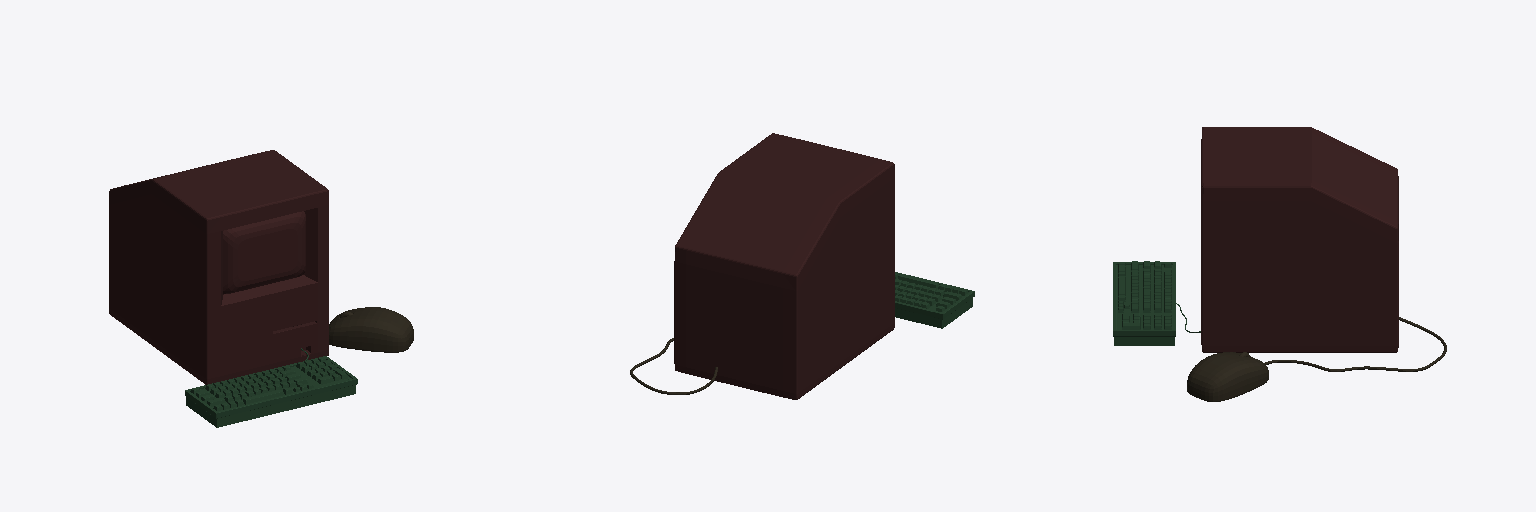
The model's file is computerr_keyboard.obj.
3 views of the same model, side by side, from view 1: azimuth 30°, elevation 25°; view 2: azimuth 150°, elevation 25°; view 3: azimuth 270°, elevation 25° (orthographic).
Parts seen in each view (by area): view 1: monitor1, keyboardd, mousee; view 2: monitor1, keyboardd; view 3: monitor1, keyboardd, mousee.
Part boxes in pixels (bbox=[...]): monitor1: bbox=[109, 150, 328, 384]; keyboardd: bbox=[185, 348, 357, 427]; mousee: bbox=[329, 307, 413, 352]; monitor1: bbox=[674, 133, 894, 399]; keyboardd: bbox=[895, 272, 974, 328]; monitor1: bbox=[1201, 127, 1398, 352]; keyboardd: bbox=[1113, 261, 1200, 345]; mousee: bbox=[1187, 317, 1446, 401].
Size of the model in its own units: 92.27 by 62.13 by 108.